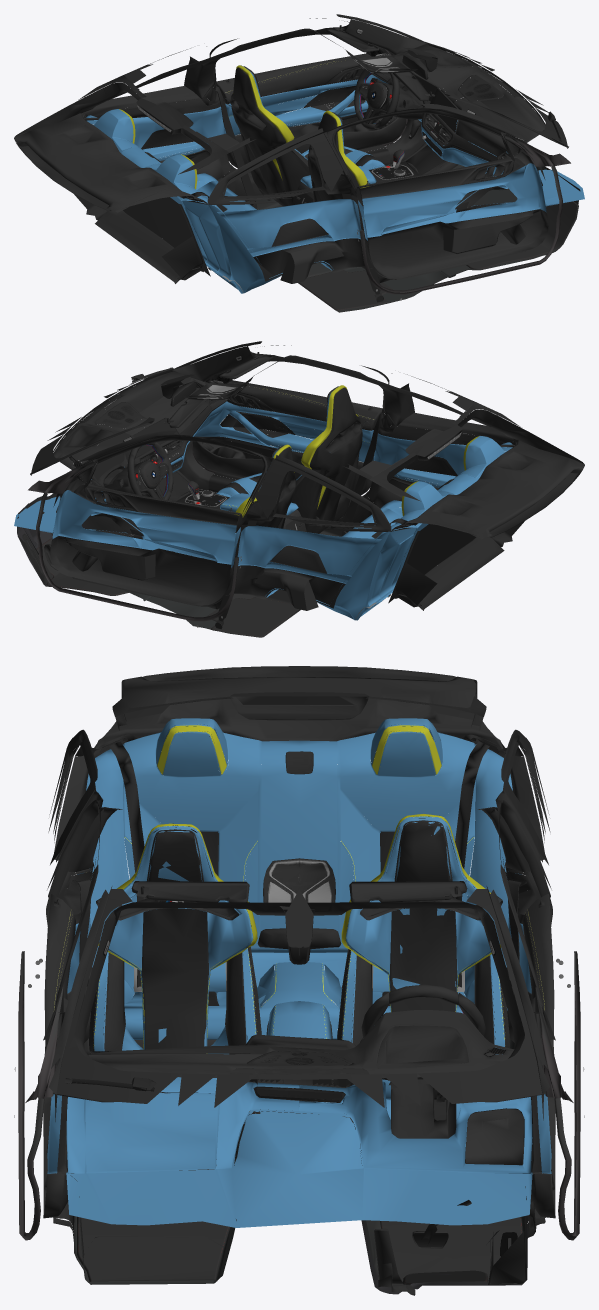
3 views of the same model, one above another, from view 1: azimuth 30°, elevation 25°; view 2: azimuth 150°, elevation 25°; view 3: azimuth 270°, elevation 25° (orthographic). The views are drawn at different scales.
Parts seen in each view (by area): view 1: body, steer; view 2: body, steer; view 3: body, steer.
Boxes of the visible parts, x1,y1,x2,y2 form: body: [14, 14, 584, 312]; steer: [354, 69, 408, 129]; body: [14, 341, 584, 637]; steer: [119, 439, 173, 500]; body: [14, 666, 584, 1295]; steer: [361, 984, 485, 1037].
Size of the model in its own units: 2.91 by 1.17 by 1.73.
Materials: 14 (8 with a texture image).
